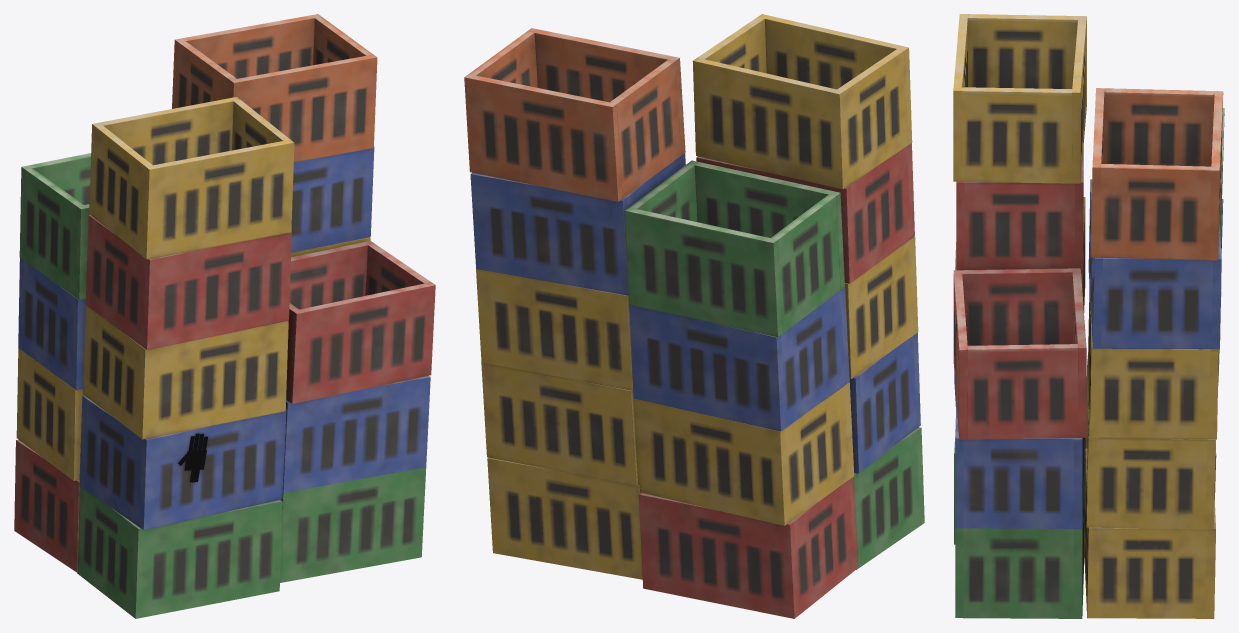
File: crate_stack_plastic.fbx
3 renders of one model, left to right at view 1: azimuth 30°, elevation 25°; view 2: azimuth 150°, elevation 25°; view 3: azimuth 270°, elevation 25°, orthographic. The views are drawn at different scales.
Parts seen in each view (by area): view 1: Body; view 2: Body; view 3: Body.
Part boxes in pixels (x1,y1,x2,y2): Body: [14, 14, 435, 618]; Body: [464, 14, 924, 618]; Body: [953, 14, 1224, 618].
Size of the model in its own units: 4.35 by 6.12 by 3.2.
Materials: 1 (1 with a texture image).
